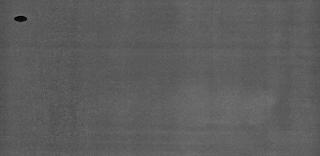punching hole: (12, 14, 30, 24)
silk spot: (46, 7, 86, 142)
